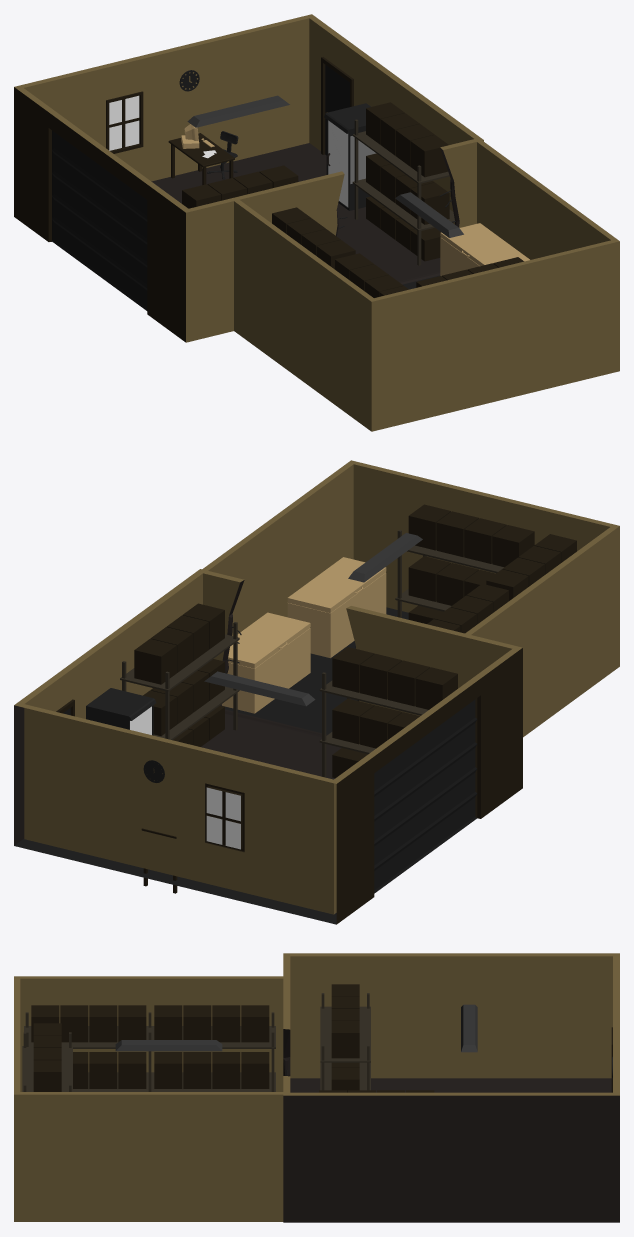
File: KolonialStage02.FBX
3 views of the same model, one above another, from view 1: azimuth 30°, elevation 25°; view 2: azimuth 150°, elevation 25°; view 3: azimuth 270°, elevation 25° (orthographic). The views are drawn at different scales.
Parts seen in each view (by area): view 1: Garage, Påbygg, BoxesOnShelfs, FloorFridge, Shelfs, BoxesOnShelfs004, BoxesOnShelfs002, BoxesOnShelfs001, Fridge, Table, LampGarage, GlassFridge (+3 smaller); view 2: Garage, Påbygg, BoxesOnShelfs004, BoxesOnShelfs003, BoxesOnShelfs, FloorFridge001, FloorFridge, Shelfs, BoxesOnShelfs001, BoxesOnShelfs002, Fridge, Shelfs004 (+3 smaller); view 3: Garage, Påbygg, BoxesOnShelfs002, BoxesOnShelfs001, BoxesOnShelfs004, Shelfs004, BoxesOnShelfs003, Shelfs002, Shelfs001, LampGarage001, Shelfs003, LampGarage.
Part boxes in pixels (left/top/right/bottom): Garage: left=14, top=14, right=483, bottom=342; Påbygg: left=232, top=138, right=619, bottom=431; BoxesOnShelfs: left=366, top=102, right=449, bottom=261; FloorFridge: left=440, top=223, right=529, bottom=275; Shelfs: left=352, top=119, right=454, bottom=265; BoxesOnShelfs004: left=182, top=165, right=298, bottom=208; BoxesOnShelfs002: left=272, top=207, right=355, bottom=269; BoxesOnShelfs001: left=335, top=253, right=408, bottom=297; Fridge: left=324, top=103, right=370, bottom=210; Table: left=168, top=133, right=234, bottom=184; LampGarage: left=187, top=95, right=289, bottom=127; GlassFridge: left=328, top=120, right=348, bottom=207; Garage: left=14, top=569, right=522, bottom=924; Påbygg: left=200, top=460, right=619, bottom=737; BoxesOnShelfs004: left=332, top=647, right=457, bottom=778; BoxesOnShelfs003: left=408, top=504, right=534, bottom=623; BoxesOnShelfs: left=134, top=603, right=224, bottom=746; FloorFridge001: left=287, top=557, right=386, bottom=658; FloorFridge: left=222, top=612, right=310, bottom=713; Shelfs: left=120, top=622, right=239, bottom=740; BoxesOnShelfs001: left=486, top=534, right=576, bottom=600; BoxesOnShelfs002: left=427, top=584, right=508, bottom=633; Fridge: left=86, top=688, right=156, bottom=735; Shelfs004: left=319, top=672, right=428, bottom=777; Garage: left=283, top=953, right=619, bottom=1222; Påbygg: left=14, top=976, right=288, bottom=1221; BoxesOnShelfs002: left=154, top=1005, right=269, bottom=1088; BoxesOnShelfs001: left=31, top=1005, right=146, bottom=1088; BoxesOnShelfs004: left=331, top=984, right=359, bottom=1092; Shelfs004: left=320, top=993, right=370, bottom=1090; BoxesOnShelfs003: left=33, top=1023, right=61, bottom=1091; Shelfs002: left=146, top=1012, right=275, bottom=1091; Shelfs001: left=24, top=1012, right=152, bottom=1091; LampGarage001: left=115, top=1040, right=222, bottom=1051; Shelfs003: left=22, top=1032, right=72, bottom=1091; LampGarage: left=461, top=1004, right=477, bottom=1052.
Size of the model in its own units: 236 by 107 by 425.
